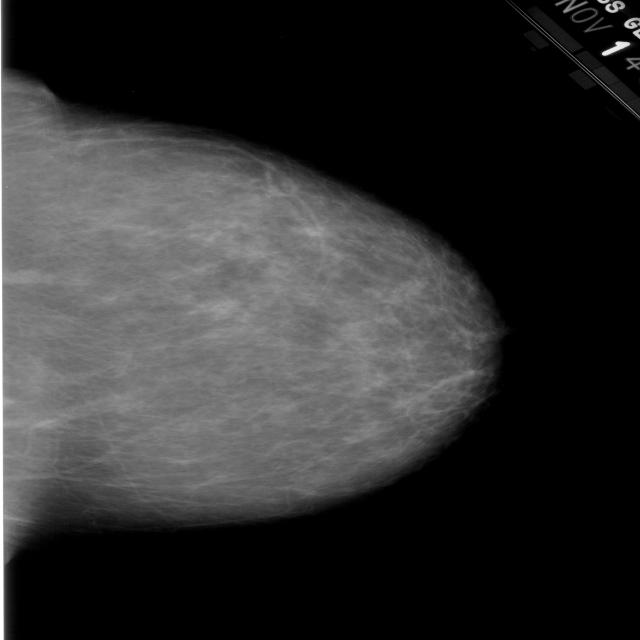normal: (0, 72, 502, 542)
